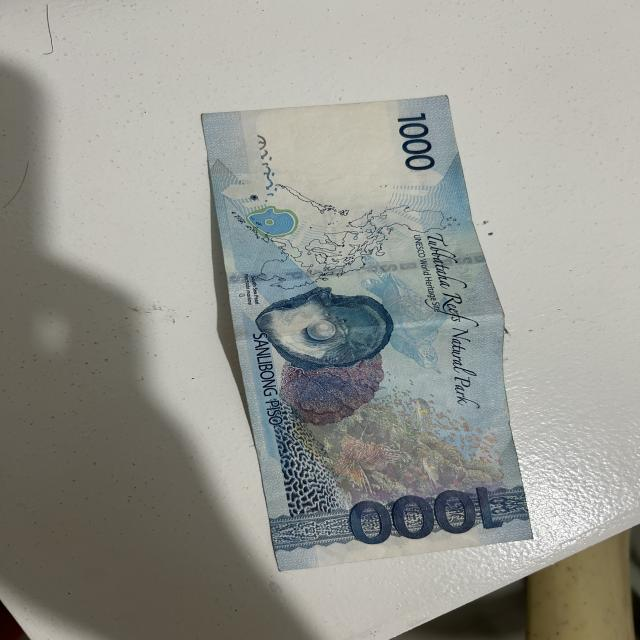1000_pearl: (258, 285, 393, 367)
1000_pearl_watermark: (242, 204, 302, 236)
